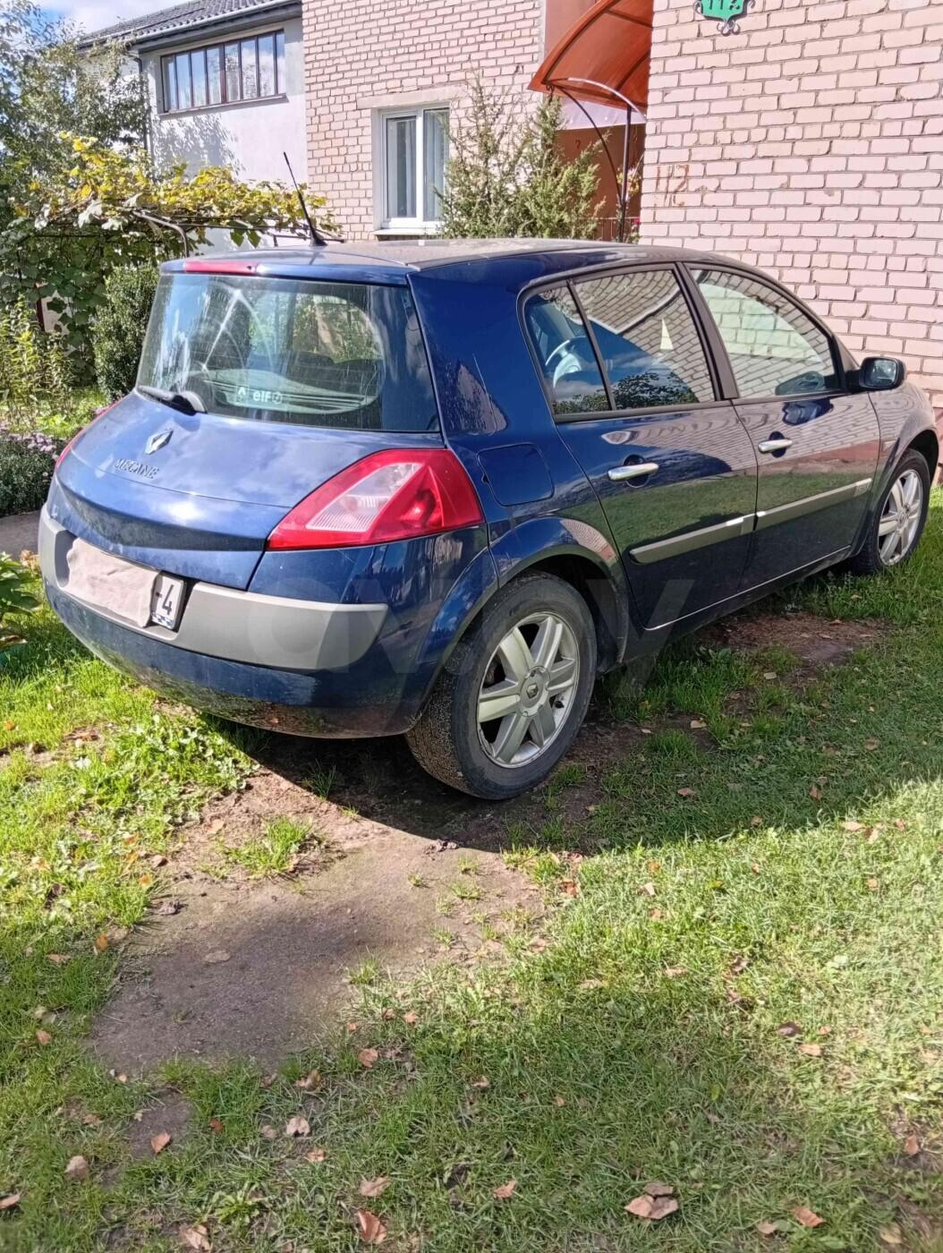Megane_2002-2006: (23, 233, 943, 788)
